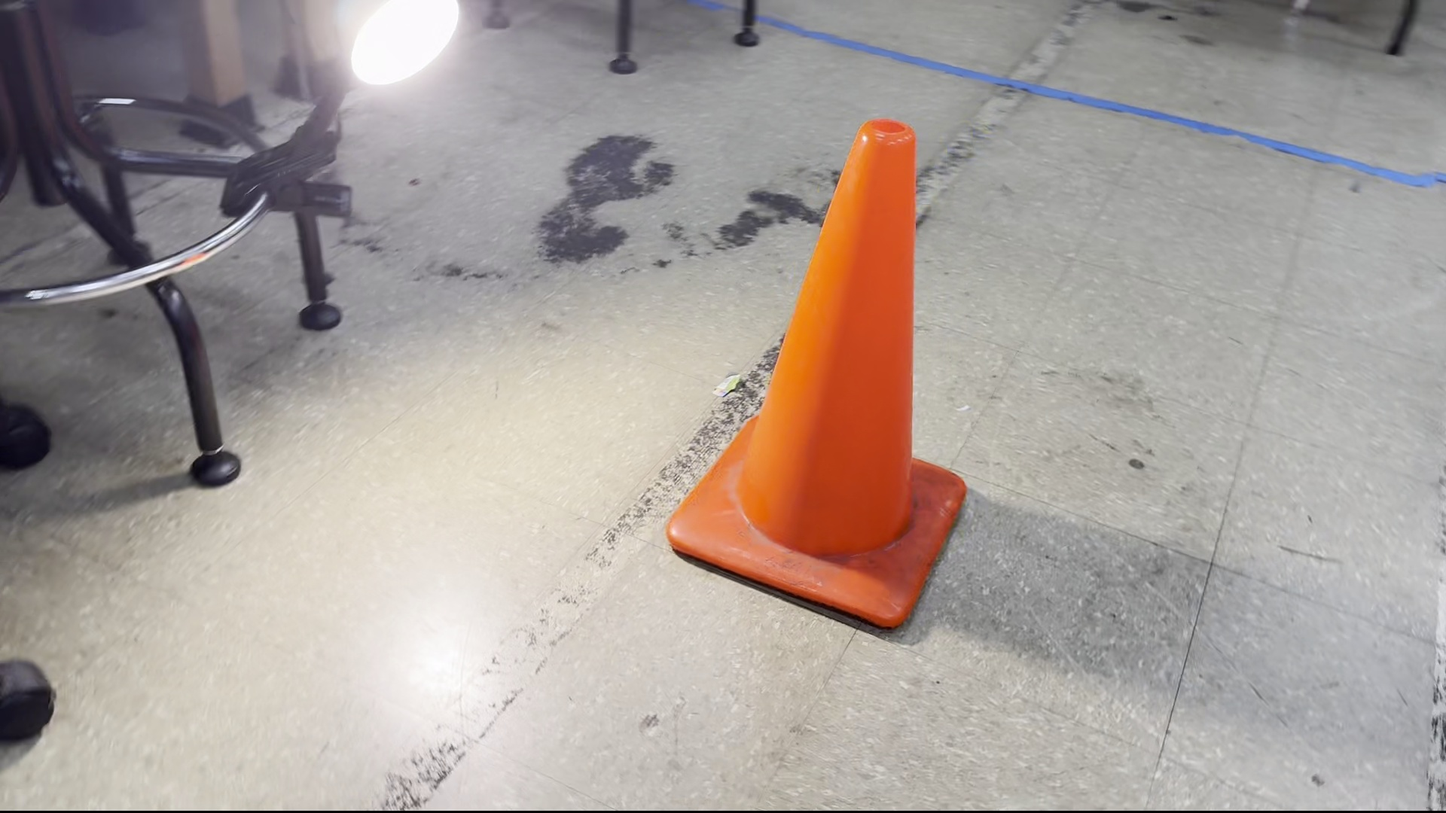traffic_cone: (665, 117, 968, 631)
